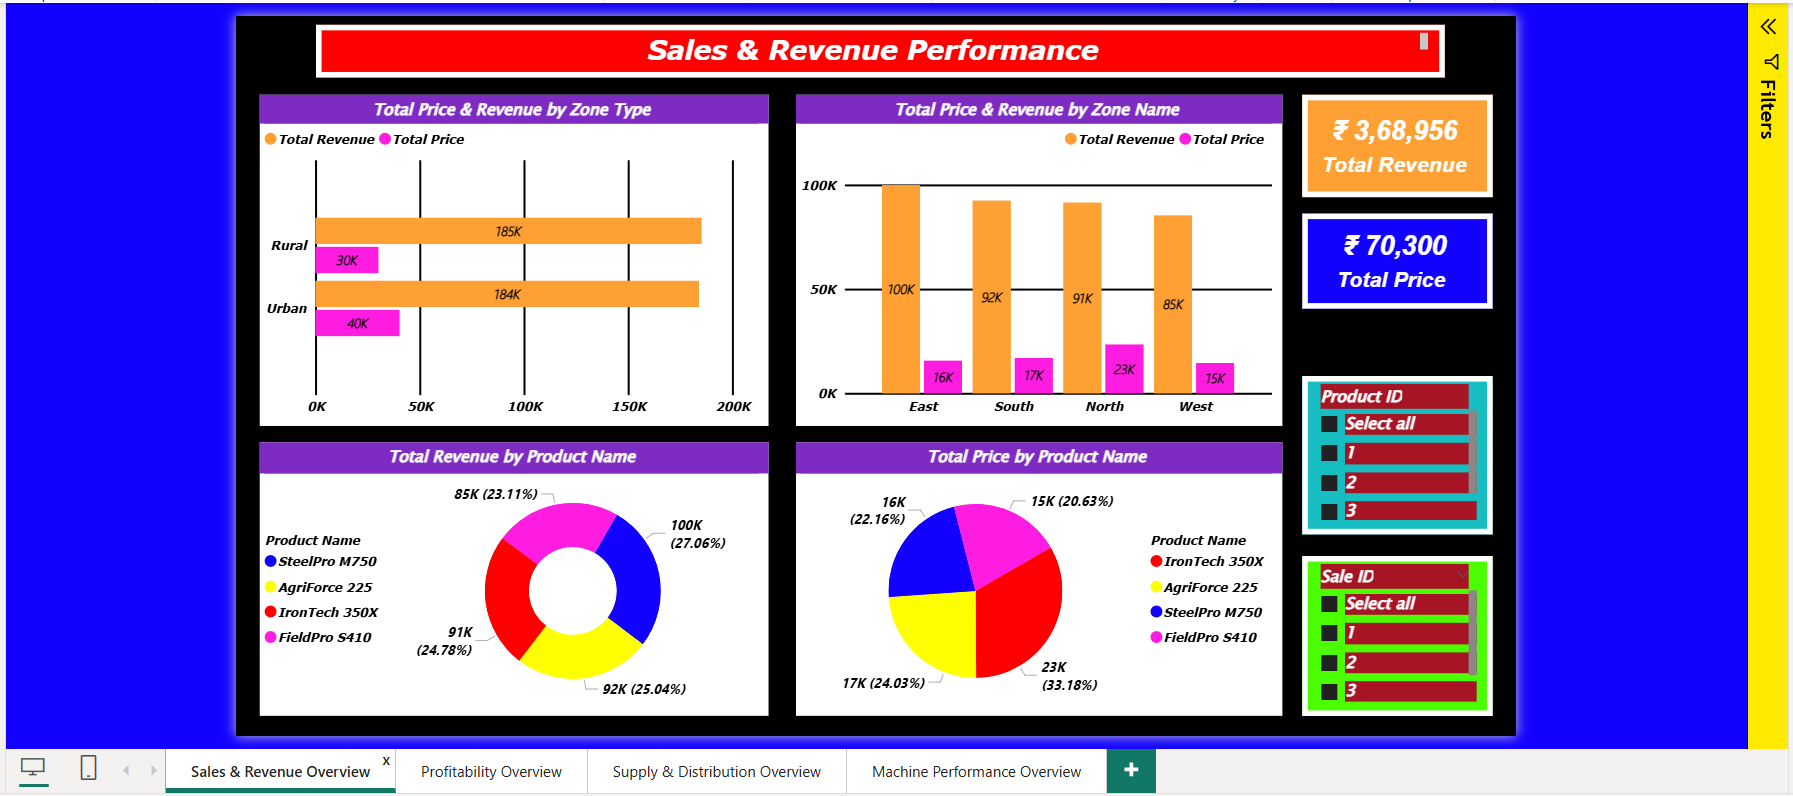

This screenshot's page, from the dashboard's own definition file:
{"tool":"powerbi","page":{"name":"Sales & Revenue Overview","canvas":[1280,720],"ordinal":0},"visuals":[{"type":"pieChart","title":"Total Price by Product Name","fields":{"Category":["Inventory_Details.Product Name"],"Y":["Sum(Inventory_Details.Product Price )"]},"box":[560,426.2,486.2,273.8],"z":0},{"type":"clusteredColumnChart","title":"Total Price & Revenue by Zone Name","fields":{"Category":["Zone_Overview.Zone Name"],"Y":["Sum(Sales_Records.Product Revenue)","Sum(Inventory_Details.Product Price )"]},"box":[560,78.8,486.2,331.2],"z":1000},{"type":"card","fields":{"Values":["Sum(Inventory_Details.Product Price )"]},"box":[1066.2,197.5,190,95],"z":2000},{"type":"card","fields":{"Values":["Sum(Sales_Records.Product Revenue)"]},"box":[1066.2,78.8,190,102.5],"z":3000},{"type":"textbox","box":[80,8.8,1128.8,52.5],"z":6000},{"type":"slicer","fields":{"Values":["Inventory_Details.Product ID"]},"box":[1066.2,360,190,158.8],"z":7000},{"type":"slicer","fields":{"Values":["Sales_Records.Sale ID"]},"box":[1066.2,540,190,160],"z":8000},{"type":"donutChart","title":"Total Revenue by Product Name","fields":{"Category":["Inventory_Details.Product Name"],"Y":["Sum(Sales_Records.Product Revenue)"]},"box":[23.8,426.2,508.8,273.8],"z":9000},{"type":"clusteredBarChart","title":"Total Price & Revenue by Zone Type","fields":{"Category":["Zone_Overview.Zone Type"],"Y":["Sum(Sales_Records.Product Revenue)","Sum(Inventory_Details.Product Price )"]},"box":[23.8,78.8,508.8,331.2],"z":10000}]}

Visuals, with their boxes on the page's 1280x720 design canvas (x1, y1, x2, y2). These are canvas units, not pixel positions in the 1793x796 screenshot, which may show the page scaled, cropped or inside an application window:
"Total Price by Product Name" pieChart: left=560, top=426, right=1046, bottom=700
"Total Price & Revenue by Zone Name" clusteredColumnChart: left=560, top=79, right=1046, bottom=410
card - Sum(Inventory_Details.Product Price ): left=1066, top=198, right=1256, bottom=292
card - Sum(Sales_Records.Product Revenue): left=1066, top=79, right=1256, bottom=181
textbox: left=80, top=9, right=1209, bottom=61
slicer - Inventory_Details.Product ID: left=1066, top=360, right=1256, bottom=519
slicer - Sales_Records.Sale ID: left=1066, top=540, right=1256, bottom=700
"Total Revenue by Product Name" donutChart: left=24, top=426, right=533, bottom=700
"Total Price & Revenue by Zone Type" clusteredBarChart: left=24, top=79, right=533, bottom=410
